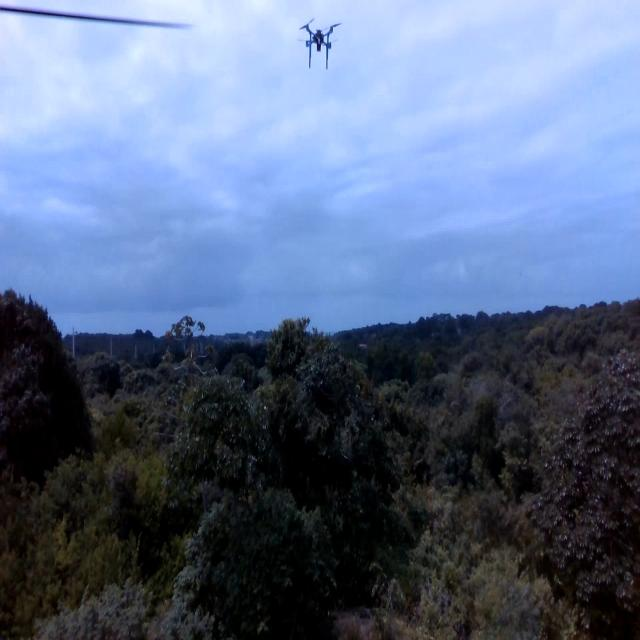-uav-: (294, 12, 351, 84)
